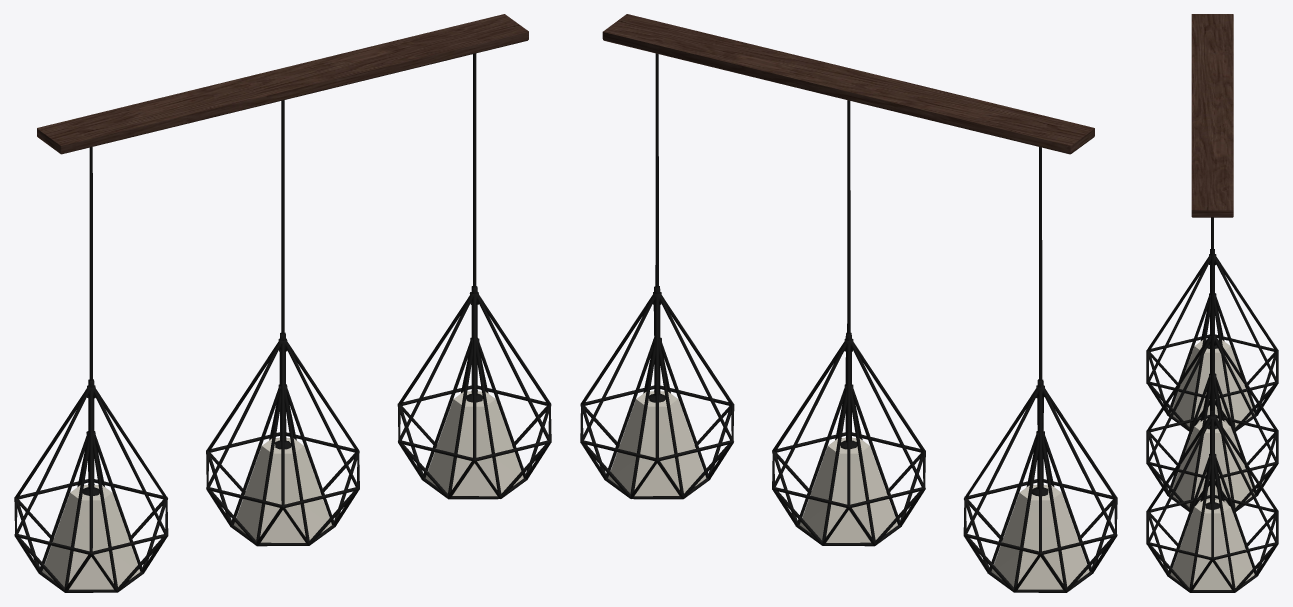
File: pendant_cages.glb
The picture shows the model from 3 angles, left to right: view 1: azimuth 30°, elevation 25°; view 2: azimuth 150°, elevation 25°; view 3: azimuth 270°, elevation 25°; orthographic projection. The views are drawn at different scales.
Parts seen in each view (by area): view 1: black_metal_black1_0, white_white1_0, wood_wood1_0; view 2: black_metal_black1_0, white_white1_0, wood_wood1_0; view 3: black_metal_black1_0, white_white1_0, wood_wood1_0.
Part boxes in pixels (bbox=[...]): black_metal_black1_0: bbox=[14, 53, 551, 592]; white_white1_0: bbox=[42, 391, 523, 589]; wood_wood1_0: bbox=[37, 14, 528, 154]; black_metal_black1_0: bbox=[580, 53, 1117, 592]; white_white1_0: bbox=[608, 391, 1089, 589]; wood_wood1_0: bbox=[602, 14, 1094, 154]; black_metal_black1_0: bbox=[1146, 217, 1278, 592]; white_white1_0: bbox=[1170, 339, 1254, 589]; wood_wood1_0: bbox=[1191, 14, 1233, 217].
Bounding box in the file's own units: 1.26 × 1 × 0.3131.
Materials: 4 (2 with a texture image).
